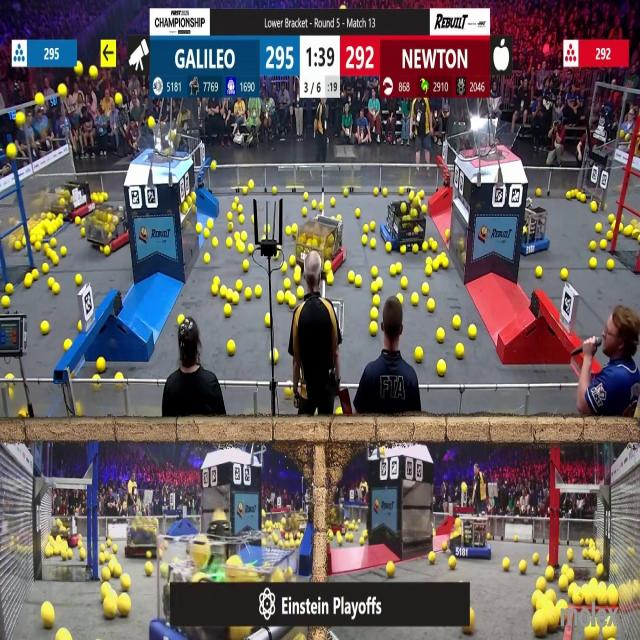ball_airborne: (233, 626, 250, 640), (7, 143, 16, 158), (15, 111, 24, 126), (59, 86, 68, 98), (91, 66, 99, 79), (33, 91, 41, 104), (114, 94, 122, 106), (75, 63, 83, 75), (461, 484, 468, 494), (148, 116, 154, 127)
ball_ground: (534, 611, 549, 640), (42, 604, 54, 630), (104, 598, 117, 620), (117, 596, 130, 617), (463, 614, 473, 635), (120, 574, 129, 590), (274, 570, 285, 582), (415, 348, 424, 362), (40, 320, 49, 334), (536, 578, 545, 592), (559, 576, 568, 590), (387, 562, 395, 577), (439, 360, 447, 375), (58, 630, 70, 640), (112, 564, 121, 577), (98, 357, 106, 371), (456, 345, 464, 359), (102, 584, 110, 598), (532, 593, 539, 609), (227, 341, 234, 356), (453, 316, 461, 329), (145, 562, 153, 575), (223, 305, 231, 318), (468, 325, 476, 338), (596, 564, 604, 577), (369, 321, 376, 335), (439, 328, 446, 342), (369, 308, 377, 320), (2, 295, 10, 307), (412, 293, 420, 305), (348, 272, 356, 284), (25, 276, 33, 288), (427, 300, 435, 312), (64, 340, 72, 352), (370, 282, 378, 294), (590, 257, 598, 269), (102, 568, 110, 580), (545, 568, 553, 580), (162, 564, 170, 576), (288, 294, 296, 306), (242, 288, 250, 300), (428, 553, 436, 565), (520, 561, 527, 574), (606, 261, 614, 272), (450, 557, 457, 569), (400, 277, 407, 289), (212, 284, 219, 296), (296, 286, 303, 298), (233, 291, 240, 303), (293, 272, 300, 284), (567, 569, 574, 581), (5, 284, 13, 294), (346, 532, 354, 542), (559, 600, 567, 610), (502, 558, 508, 571), (266, 314, 272, 327), (254, 286, 261, 297), (535, 268, 542, 279), (277, 291, 284, 302), (374, 294, 381, 305), (237, 280, 243, 292), (76, 274, 82, 286), (422, 283, 428, 295), (225, 287, 231, 299), (576, 192, 584, 201), (76, 406, 82, 418), (561, 270, 568, 280), (243, 262, 250, 272), (355, 276, 362, 286), (51, 284, 58, 294), (443, 260, 450, 270), (591, 203, 598, 213), (99, 554, 106, 564), (285, 387, 292, 397), (22, 238, 29, 248), (220, 286, 226, 297), (326, 275, 332, 286), (426, 267, 432, 278), (567, 551, 573, 562), (324, 263, 330, 274), (396, 264, 402, 275), (532, 554, 538, 565), (42, 265, 49, 274), (225, 239, 232, 248), (61, 247, 68, 256), (146, 552, 153, 561), (18, 411, 25, 420), (625, 229, 632, 238), (104, 246, 110, 256), (369, 239, 375, 249), (284, 280, 290, 290), (600, 240, 606, 250), (205, 253, 211, 263), (386, 243, 392, 253), (371, 267, 376, 279), (195, 222, 201, 232), (289, 256, 295, 266), (178, 314, 184, 324), (212, 238, 218, 248), (590, 242, 596, 252), (32, 270, 38, 280), (80, 550, 86, 560), (274, 350, 279, 362), (51, 254, 57, 264), (362, 236, 368, 246), (291, 223, 297, 233), (68, 550, 74, 560), (50, 238, 56, 248), (118, 370, 124, 380), (378, 278, 383, 290), (207, 218, 213, 228), (211, 162, 217, 172), (239, 244, 245, 254), (390, 267, 396, 277), (213, 277, 220, 285), (284, 226, 291, 234), (14, 242, 21, 250), (561, 566, 568, 574), (596, 222, 602, 231), (413, 244, 419, 253), (36, 242, 42, 251), (422, 243, 428, 252), (431, 243, 437, 252), (112, 543, 118, 552), (432, 263, 438, 272), (76, 321, 82, 330), (235, 233, 241, 242), (248, 244, 253, 254), (205, 230, 210, 240), (607, 232, 612, 242), (398, 293, 403, 303), (339, 535, 344, 545), (6, 374, 13, 381), (282, 266, 288, 274), (363, 224, 369, 232), (445, 231, 451, 239), (303, 208, 309, 216), (426, 256, 432, 264), (318, 204, 324, 212), (248, 181, 254, 189), (371, 187, 377, 195), (330, 199, 335, 208), (227, 212, 232, 221), (369, 221, 374, 230), (312, 201, 317, 210), (47, 279, 52, 288), (238, 206, 244, 213), (422, 206, 428, 213), (100, 542, 106, 549), (356, 208, 360, 218), (400, 246, 405, 254), (227, 222, 232, 230), (242, 234, 247, 242), (240, 215, 245, 223), (80, 230, 85, 238), (304, 192, 309, 200), (338, 409, 343, 417), (344, 188, 349, 196), (383, 188, 388, 196), (608, 215, 613, 223), (566, 194, 571, 202), (106, 539, 111, 547), (362, 530, 368, 536), (536, 188, 541, 195), (243, 187, 248, 194), (444, 541, 448, 549), (76, 217, 80, 225), (360, 537, 364, 545), (273, 186, 277, 194), (234, 204, 238, 212), (104, 192, 108, 200), (620, 223, 624, 231), (292, 575, 296, 582), (515, 535, 519, 541), (338, 214, 342, 220), (251, 215, 254, 223), (276, 251, 280, 257)
goal: (465, 120, 520, 160), (127, 128, 187, 160)
robot_blue: (380, 196, 424, 249), (517, 198, 549, 255), (449, 516, 492, 558)
robot_red: (294, 216, 346, 273), (87, 203, 130, 252), (51, 178, 93, 221), (125, 515, 161, 558), (55, 516, 80, 546), (328, 506, 348, 532)
